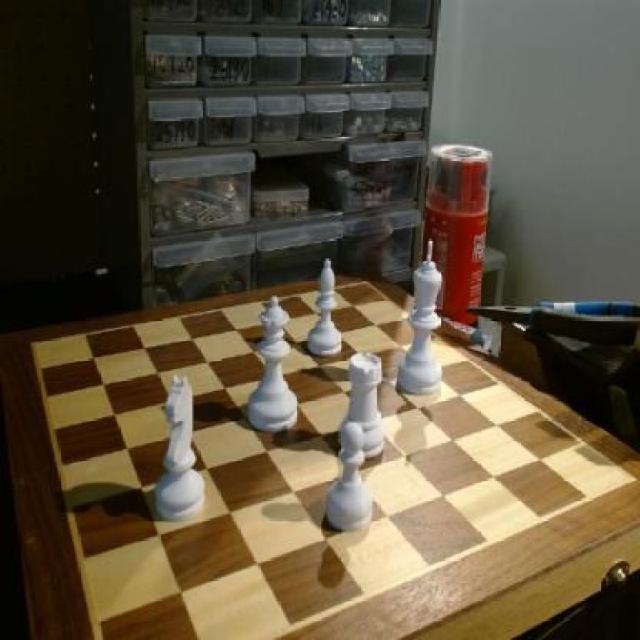black-rook: (306, 258, 348, 359)
white-bishop: (397, 234, 451, 401)
white-king: (156, 372, 206, 527)
white-knight: (320, 420, 378, 537)
white-pawn: (242, 292, 302, 437)
white-queen: (338, 352, 389, 461)
